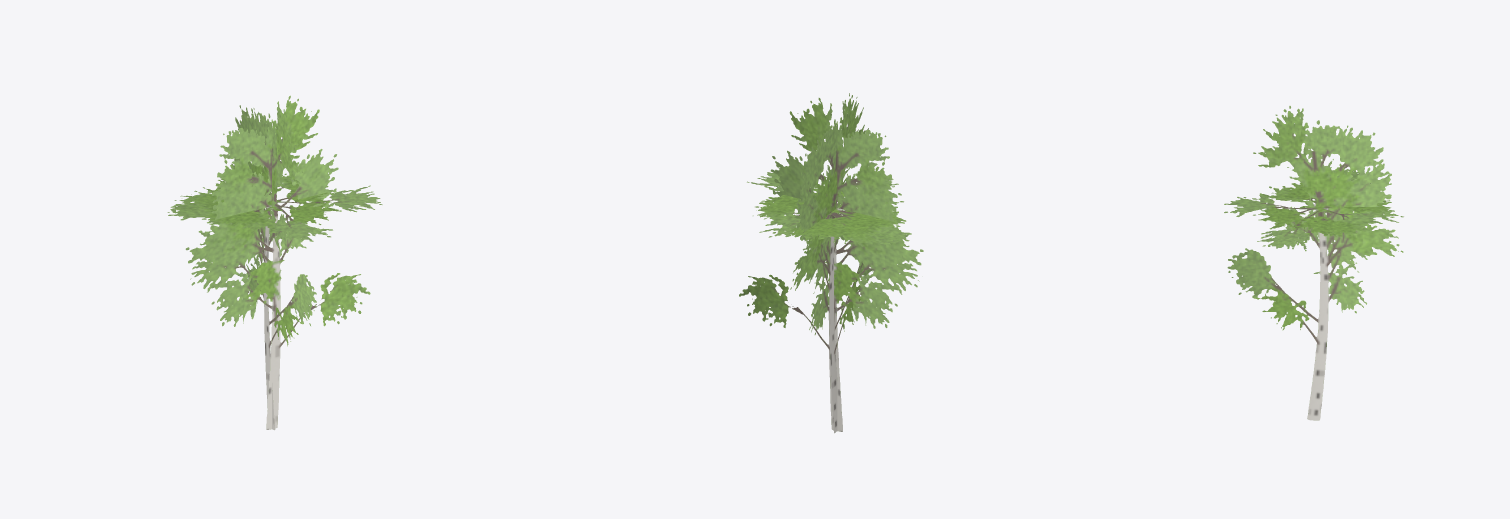
Rendered from birch_2_far.glb.
3 renders of one model, left to right at view 1: azimuth 30°, elevation 25°; view 2: azimuth 150°, elevation 25°; view 3: azimuth 270°, elevation 25°, orthographic. The views are drawn at different scales.
Visible parts, largest first — view 1: birch_2_far; view 2: birch_2_far; view 3: birch_2_far.
Part boxes in pixels (bbox=[...]): birch_2_far: bbox=[167, 95, 382, 430]; birch_2_far: bbox=[739, 93, 923, 433]; birch_2_far: bbox=[1224, 106, 1403, 420].
Bounding box in the file's own units: 10.61 × 10.61 × 10.61.
1 material, 1 textured.
